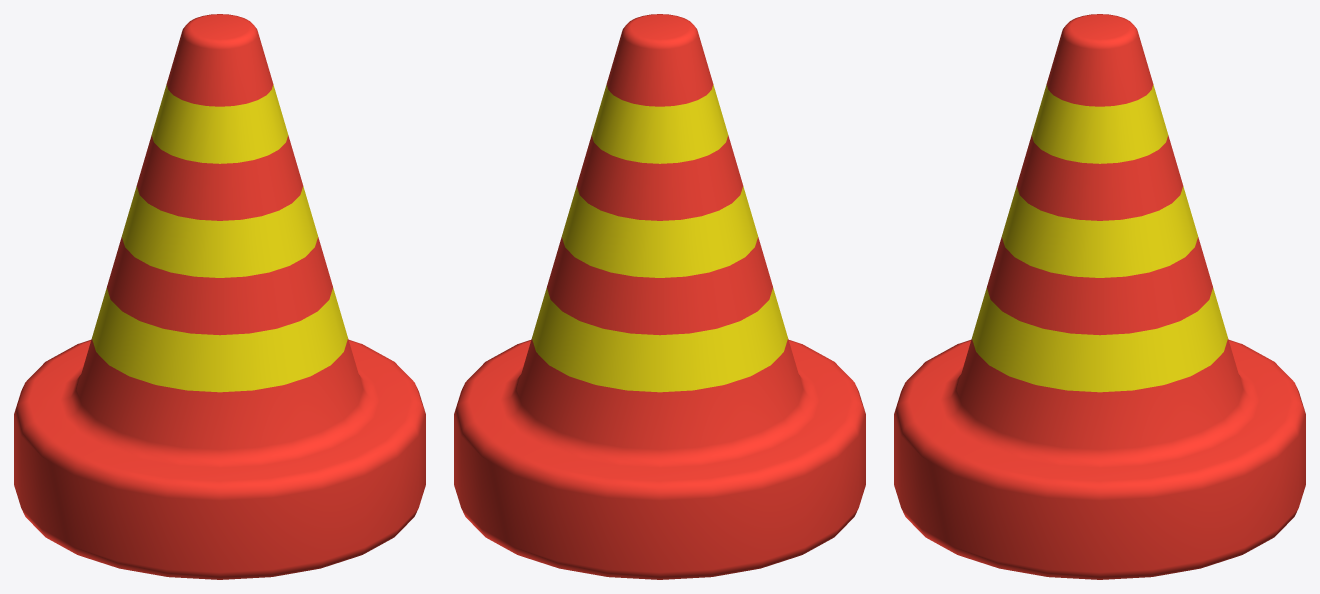
Rendered from Public_11_Cone_1.glb.
3 renders of one model, left to right at view 1: azimuth 30°, elevation 25°; view 2: azimuth 150°, elevation 25°; view 3: azimuth 270°, elevation 25°, orthographic.
Parts seen in each view (by area): view 1: Public_11_Cone_1; view 2: Public_11_Cone_1; view 3: Public_11_Cone_1.
Part boxes in pixels (x1,y1,x2,y2): Public_11_Cone_1: (14, 14, 425, 579); Public_11_Cone_1: (454, 14, 865, 579); Public_11_Cone_1: (894, 14, 1305, 579).
Bounding box in the file's own units: 0.8959 × 1.13 × 0.8959.
1 material, 1 textured.
